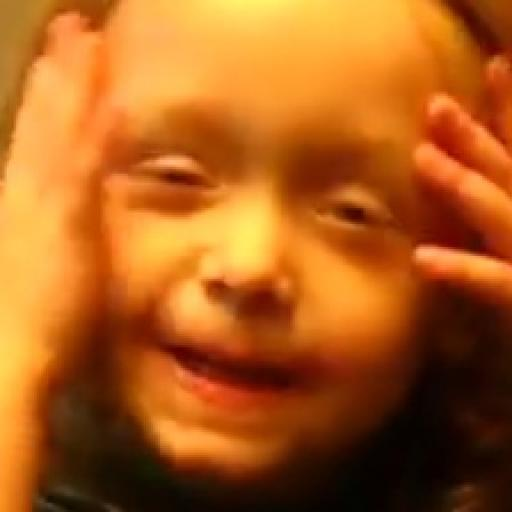Autism: (42, 1, 512, 503)
